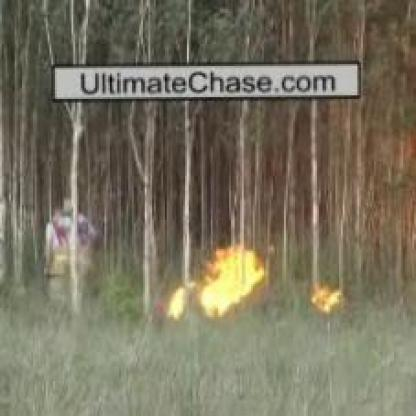fire: (163, 245, 275, 320), (307, 280, 345, 312)
